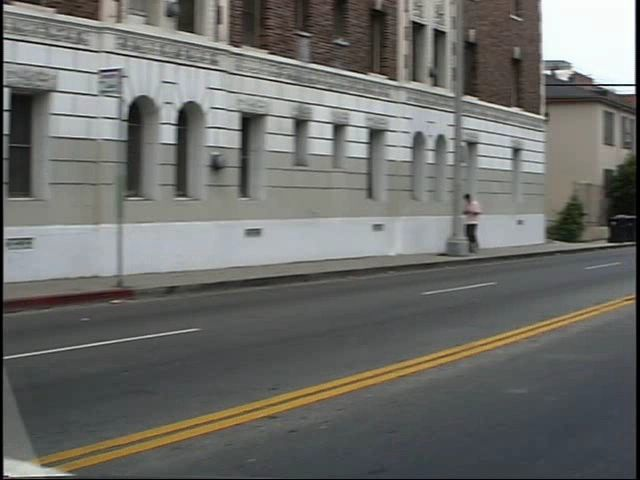person: (469, 187, 494, 256)
